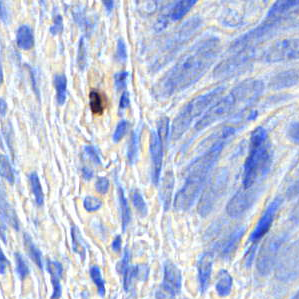Lymphocyte: (89, 88, 107, 116)
